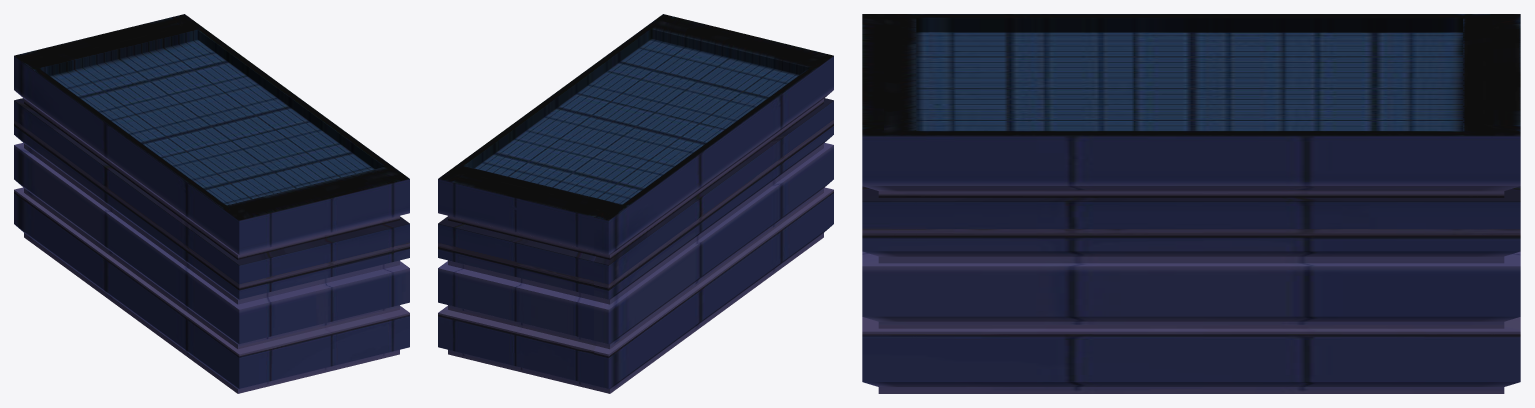
The model's file is BlueIndentBuildingWide.fbx.
3 views of the same model, side by side, from view 1: azimuth 30°, elevation 25°; view 2: azimuth 150°, elevation 25°; view 3: azimuth 270°, elevation 25° (orthographic). The views are drawn at different scales.
Visible parts, largest first — view 1: buildingStack2; view 2: buildingStack2; view 3: buildingStack2.
Boxes of the visible parts, x1=… form: buildingStack2: x1=14, y1=14, x2=409, y2=393; buildingStack2: x1=438, y1=14, x2=833, y2=393; buildingStack2: x1=862, y1=14, x2=1520, y2=393.
Bounding box in the file's own units: 5 × 5 × 11.42.
1 material, 1 textured.
